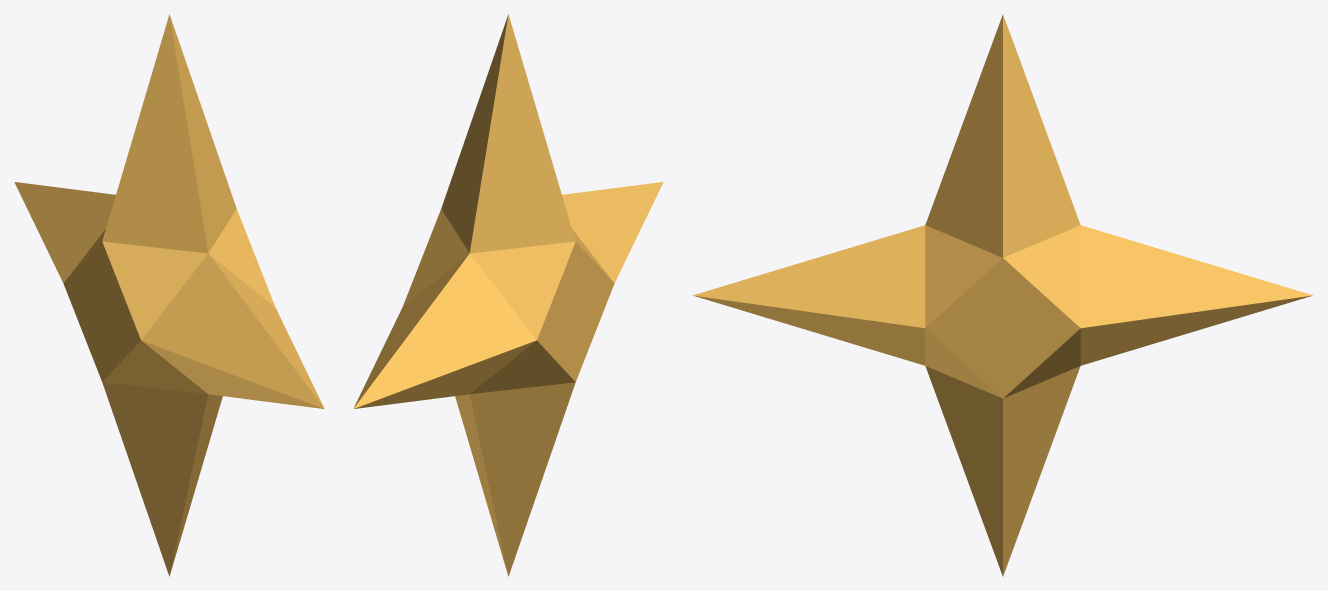
The model's file is star.fbx.
The picture shows the model from 3 angles, left to right: view 1: azimuth 30°, elevation 25°; view 2: azimuth 150°, elevation 25°; view 3: azimuth 270°, elevation 25°; orthographic projection.
Visible parts, largest first — view 1: Star; view 2: Star; view 3: Star.
Part boxes in pixels (<box>): Star: <box>14,14,324,576</box>; Star: <box>353,14,663,576</box>; Star: <box>692,14,1313,576</box>.
Size of the model in its own units: 50 by 200 by 200.
